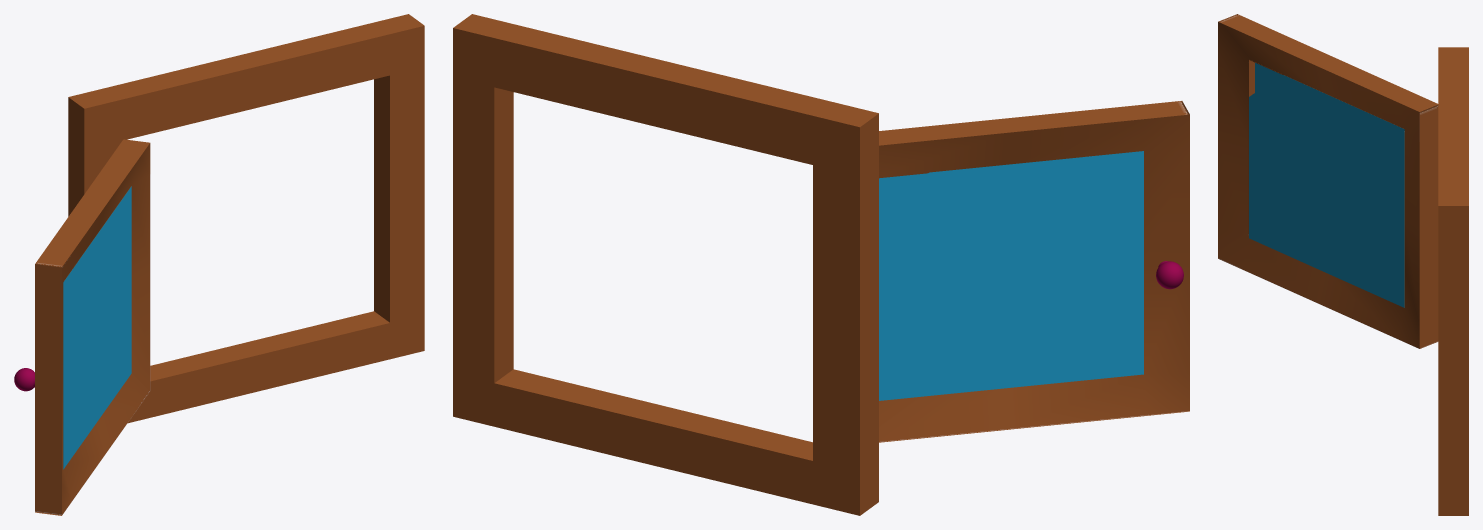
Rendered from window8.FBX.
3 renders of one model, left to right at view 1: azimuth 30°, elevation 25°; view 2: azimuth 150°, elevation 25°; view 3: azimuth 270°, elevation 25°, orthographic. The views are drawn at different scales.
Parts seen in each view (by area): view 1: Frame, Window, Window001; view 2: Frame, Window001, Window; view 3: Window, Window001, Frame.
Part boxes in pixels (box(x1,y1,x2,y2)): Frame: box(68, 14, 424, 423); Window: box(14, 139, 150, 515); Window001: box(63, 186, 131, 469); Frame: box(453, 14, 878, 515); Window001: box(879, 151, 1143, 400); Window: box(879, 101, 1189, 442); Window: box(1218, 14, 1438, 348); Window001: box(1249, 60, 1404, 307); Frame: box(1438, 47, 1468, 515).
Size of the model in its own units: 170 by 105 by 77.11.
